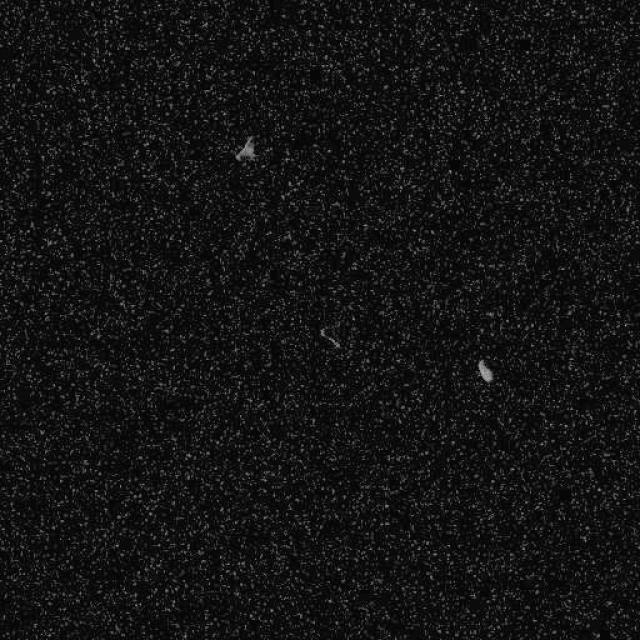D2: (234, 134, 258, 161), (318, 326, 340, 350), (475, 358, 494, 383)
